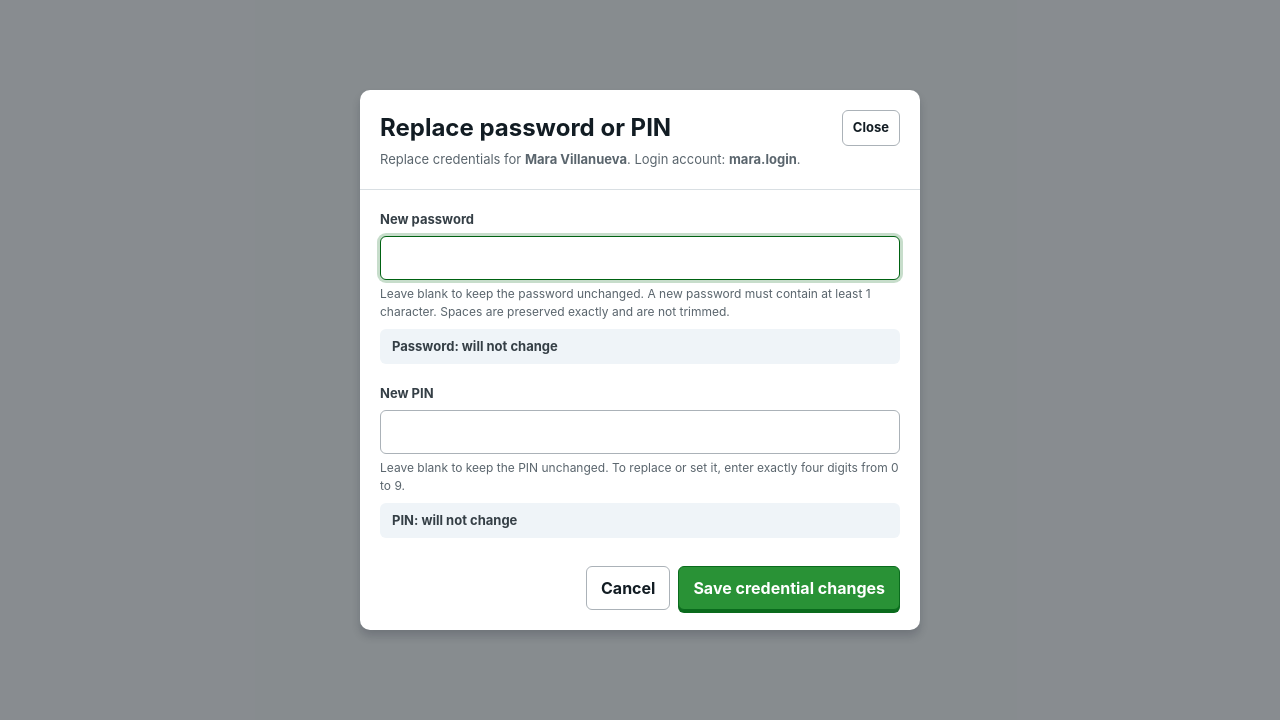
Scenario: StaffCredentialDialog › updates only the PIN and omits the blank password
The image size is (1280, 720).
Type "2048" into the password field labelled "New PIN" at x=640, y=432, box [380,410,900,454]
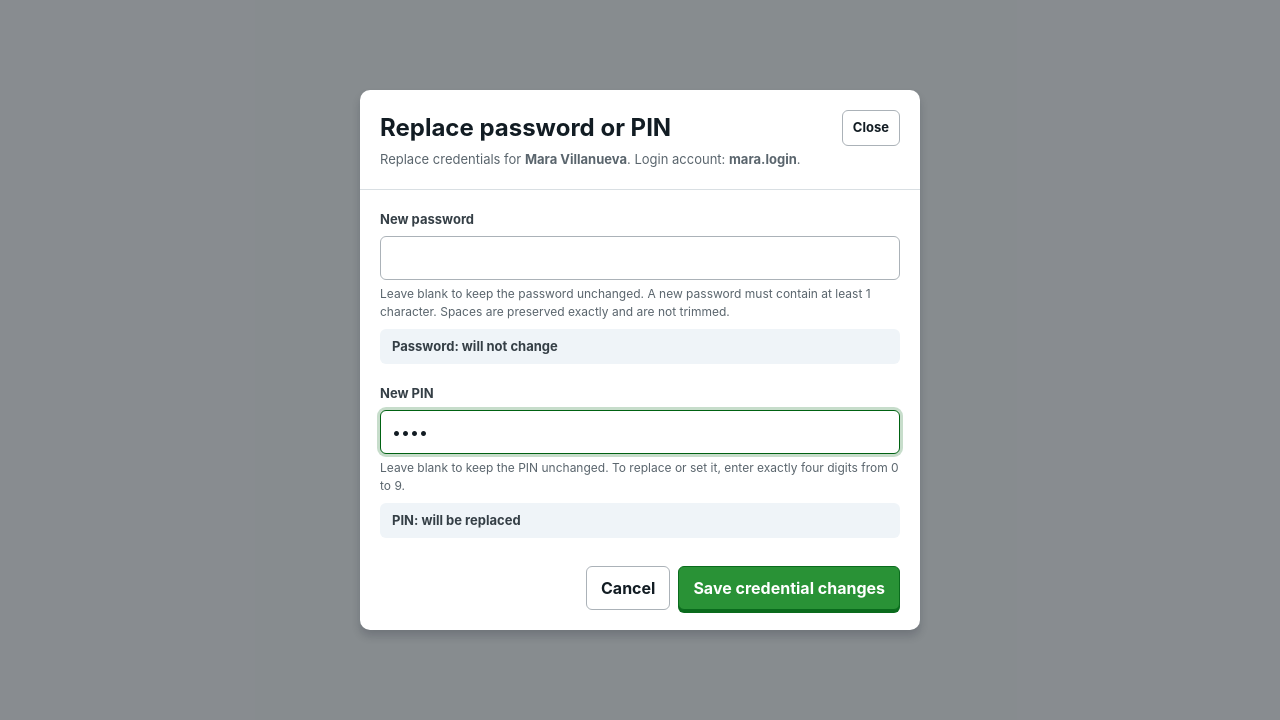
Click the button "Save credential changes" at x=789, y=588, box [678,566,900,610]
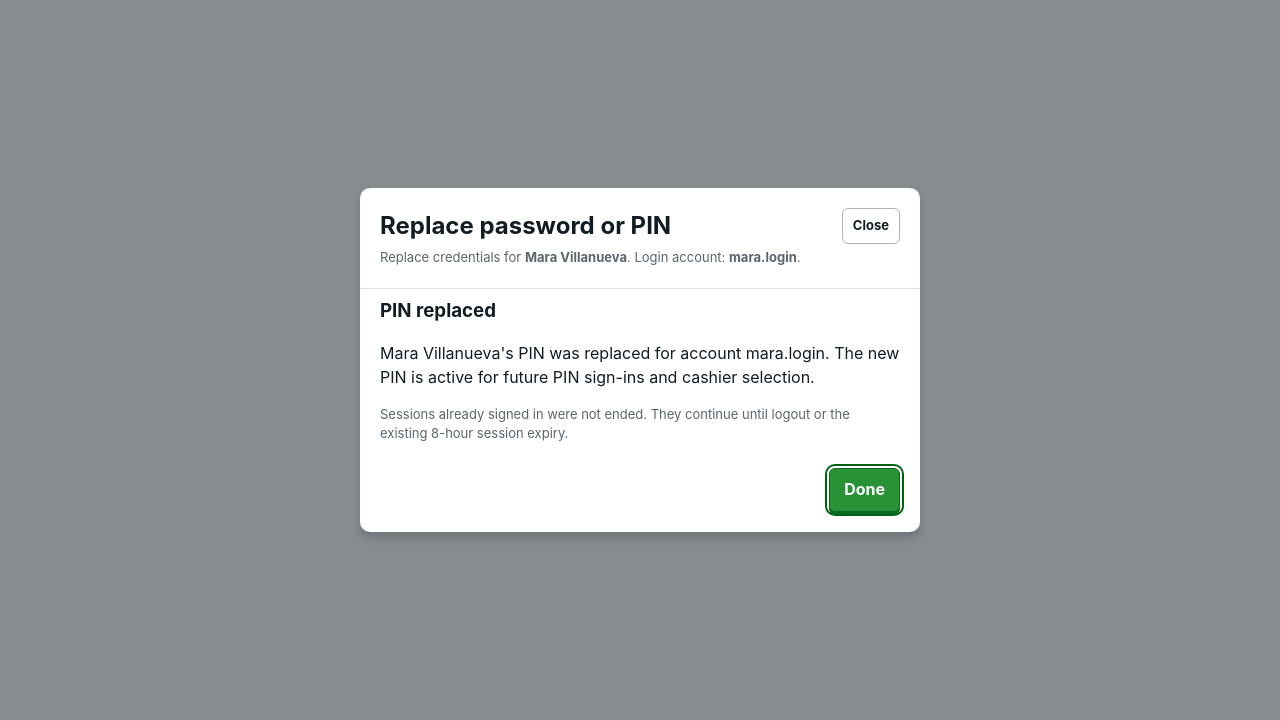
Expected: the dialog "Replace password or PIN" does not show "2048", [360,188,920,532]
Expected: the heading "PIN replaced" is shown, [380,299,496,322]
